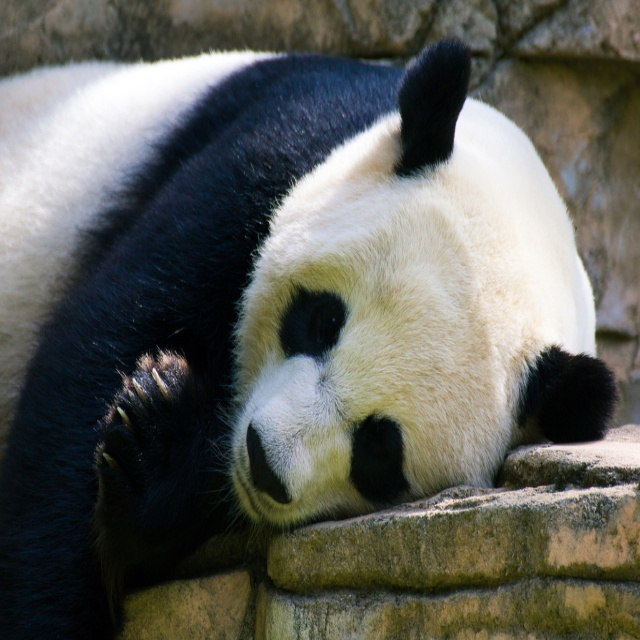Panda: (1, 25, 620, 639)
